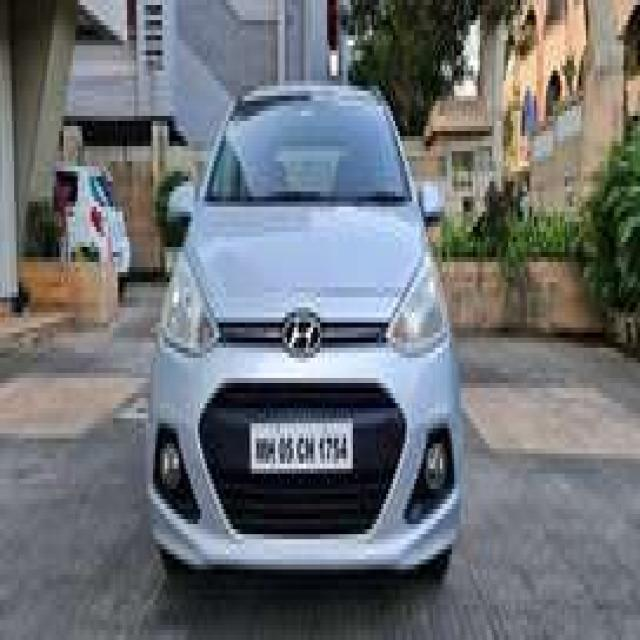licenseplate: (248, 419, 356, 470)
